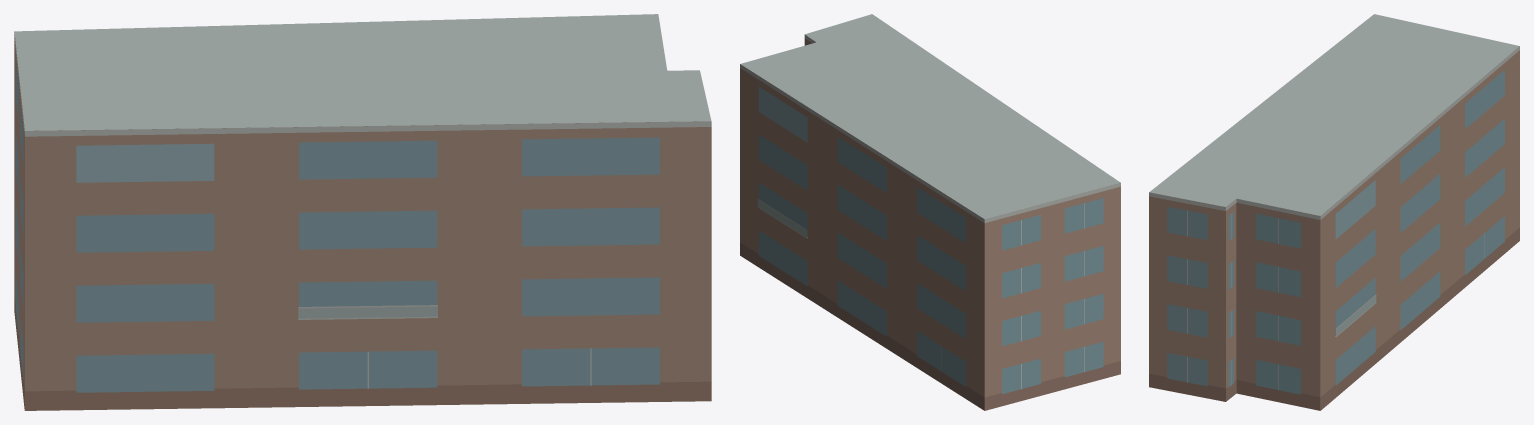
File: survey-upis-32519525.glb
3 renders of one model, left to right at view 1: azimuth 30°, elevation 25°; view 2: azimuth 150°, elevation 25°; view 3: azimuth 270°, elevation 25°, orthographic. The views are drawn at different scales.
Parts seen in each view (by area): view 1: survey-upis-32519525.tmp; view 2: survey-upis-32519525.tmp; view 3: survey-upis-32519525.tmp.
Part boxes in pixels (x1=…): survey-upis-32519525.tmp: x1=14, y1=14, x2=711, y2=410; survey-upis-32519525.tmp: x1=740, y1=14, x2=1120, y2=410; survey-upis-32519525.tmp: x1=1149, y1=14, x2=1519, y2=410.
Bounding box in the file's own units: 26.47 × 11.9 × 20.53.
